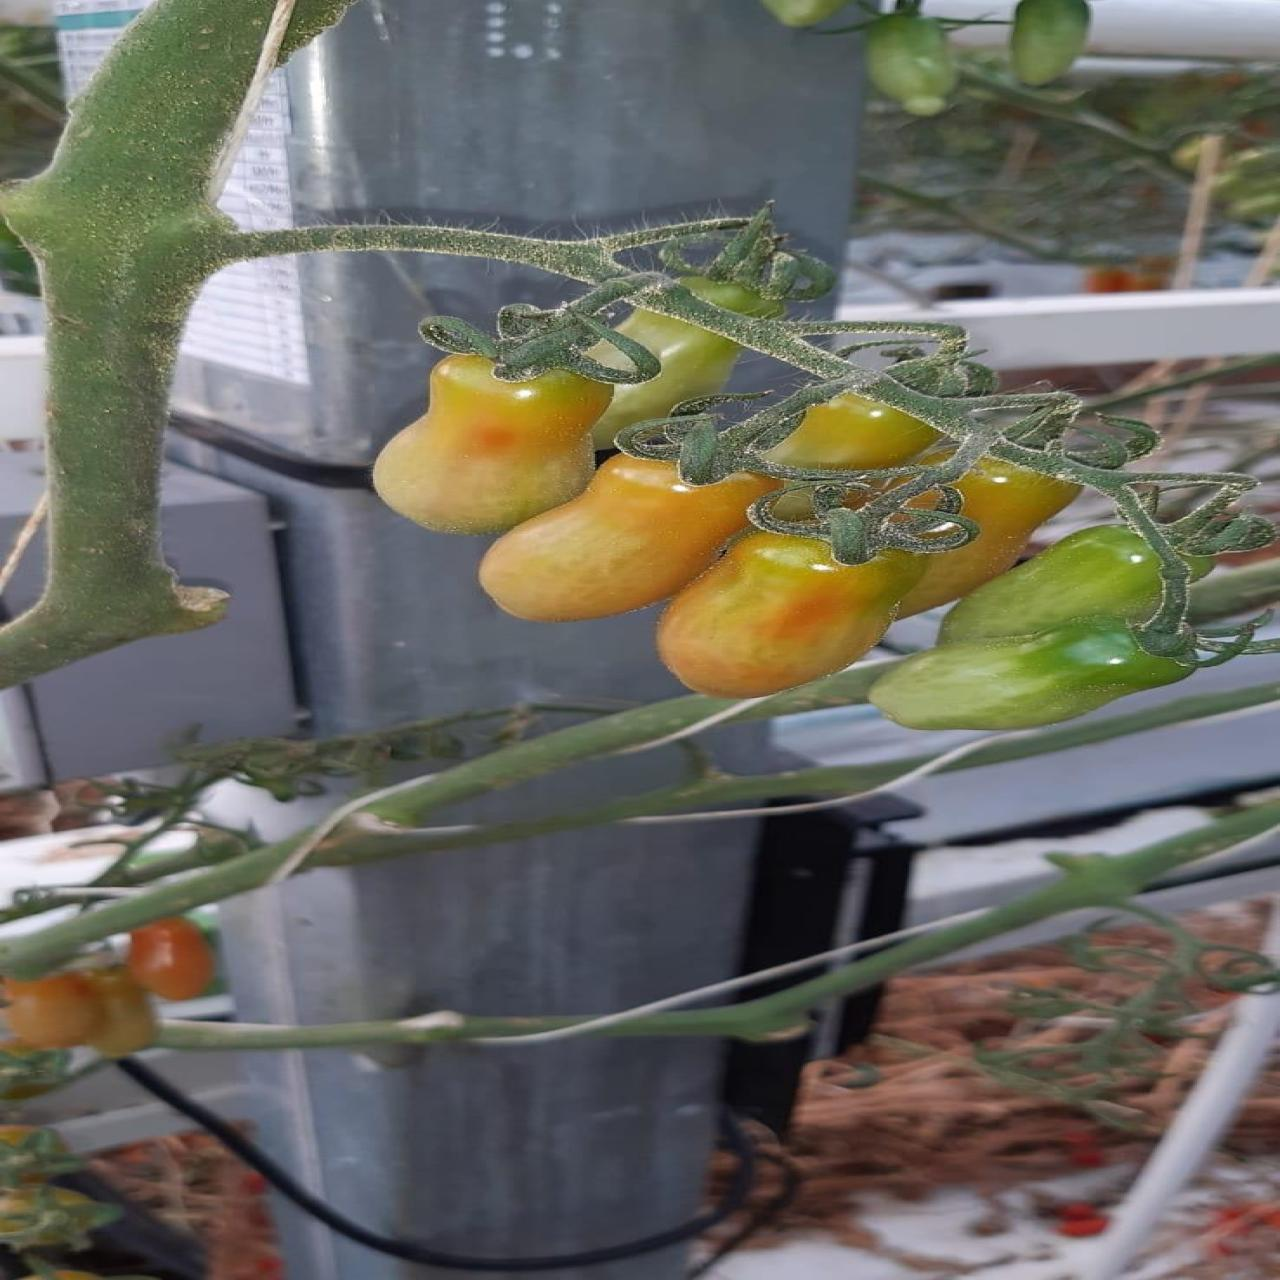T_F_R: (479, 461, 783, 629), (655, 532, 931, 699), (370, 354, 612, 535), (869, 618, 1191, 731), (938, 525, 1160, 645)
T_S_R: (1, 1, 299, 641), (229, 226, 640, 284), (646, 286, 865, 381)
